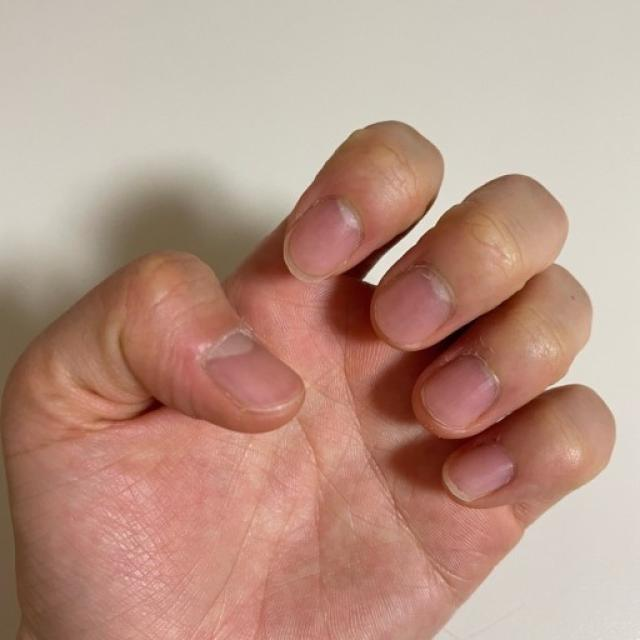Nail: (200, 330, 306, 413), (371, 265, 454, 350), (284, 196, 362, 281), (420, 355, 500, 429), (442, 444, 515, 502)
